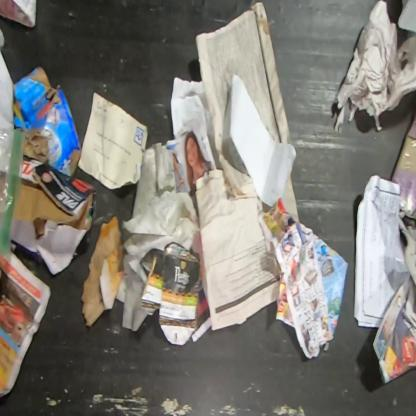cardboard: (8, 155, 95, 276), (14, 66, 81, 176), (141, 243, 202, 346), (391, 114, 415, 222)
soft_plastic: (0, 127, 24, 258)
